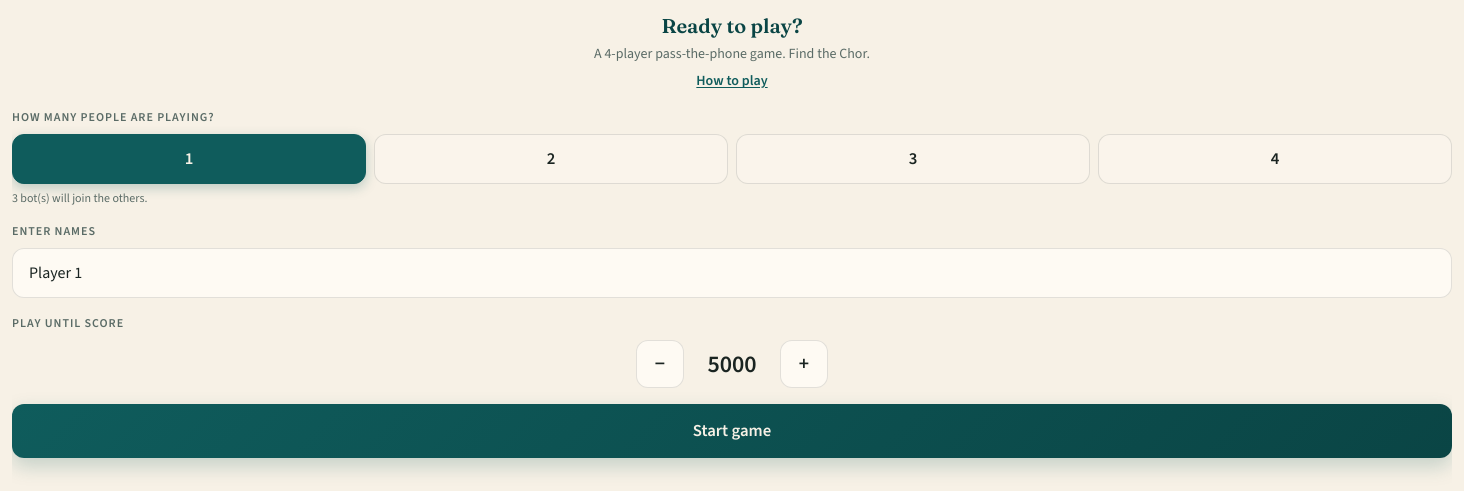
Test: SetupScreen › disables Start when a name is cleared
The image size is (1464, 491).
Expected: the button "Start game" is enabled, [12,404,1452,458]
Clear the field with placeholder "Player 1": coordinates (732, 273) [12,248,1452,298]
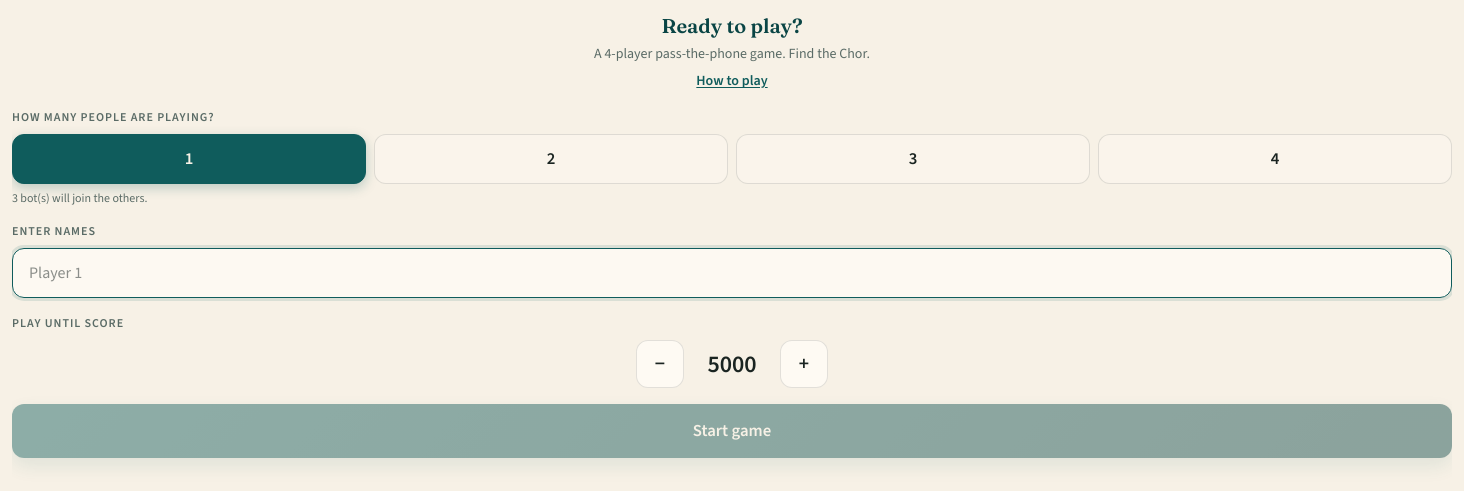
Now the button "Start game" is disabled, box [12,404,1452,458]
